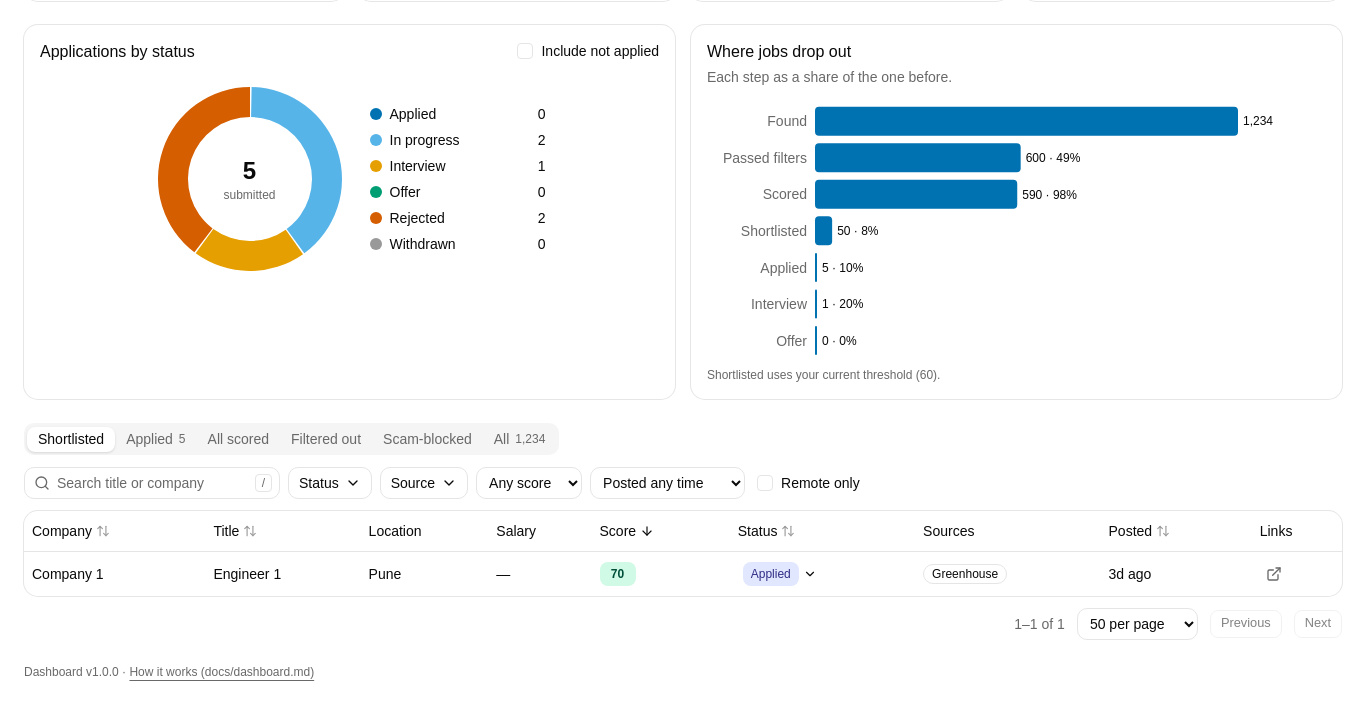
StatusSelect › choosing the status it already has sends nothing
(page scrolled)
Click the button with aria-label "Status: Applied. Change status": (780, 574) [738, 560, 822, 588]
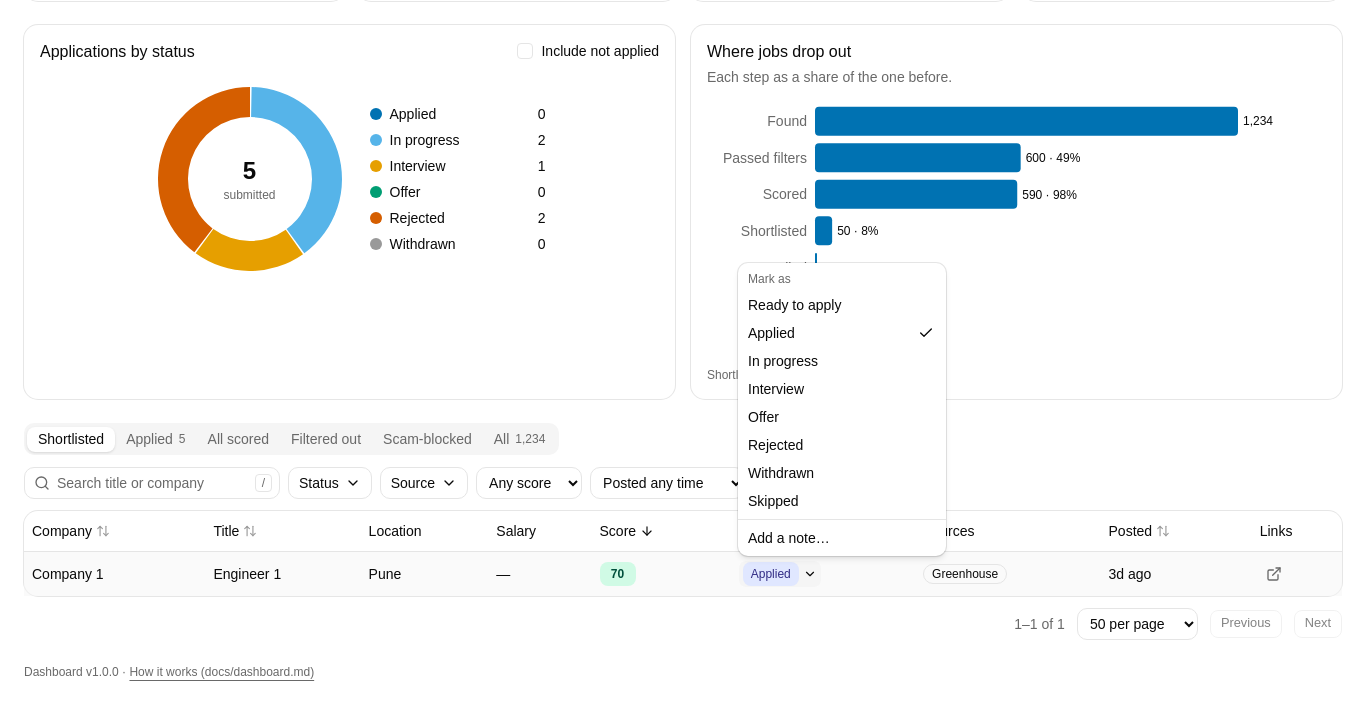
Click the menu item "Applied": (771, 333) [748, 325, 934, 341]
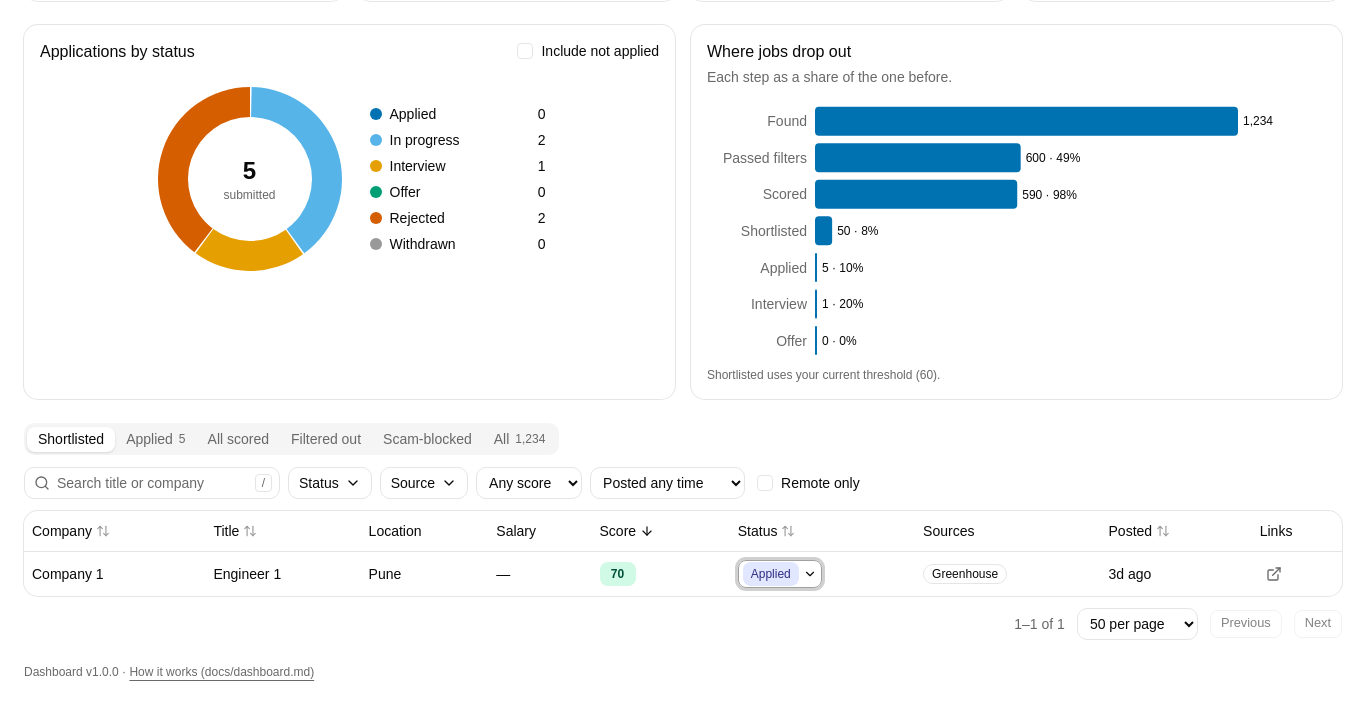
Now the menu is gone
